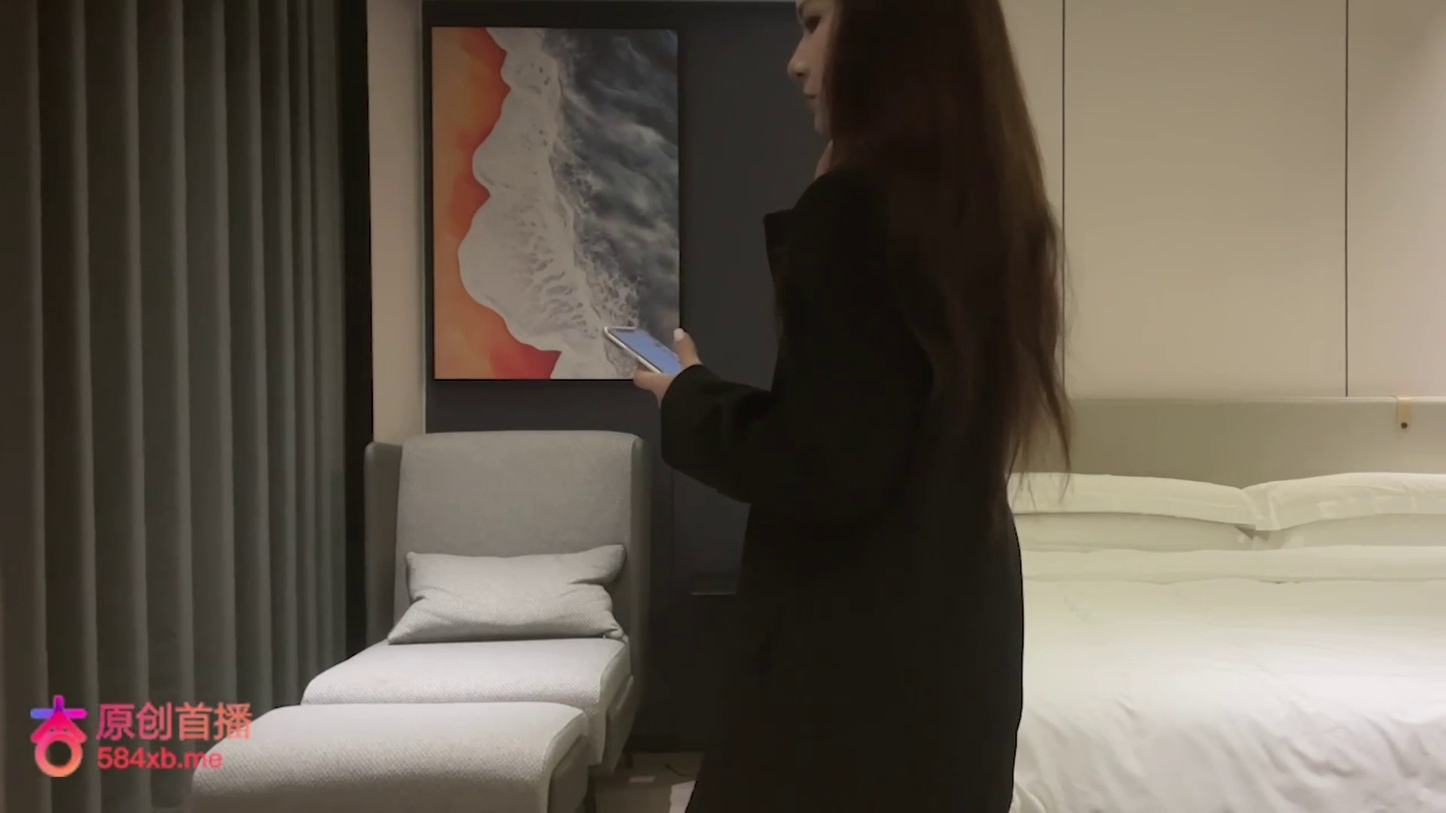stand: (620, 2, 1075, 813)
